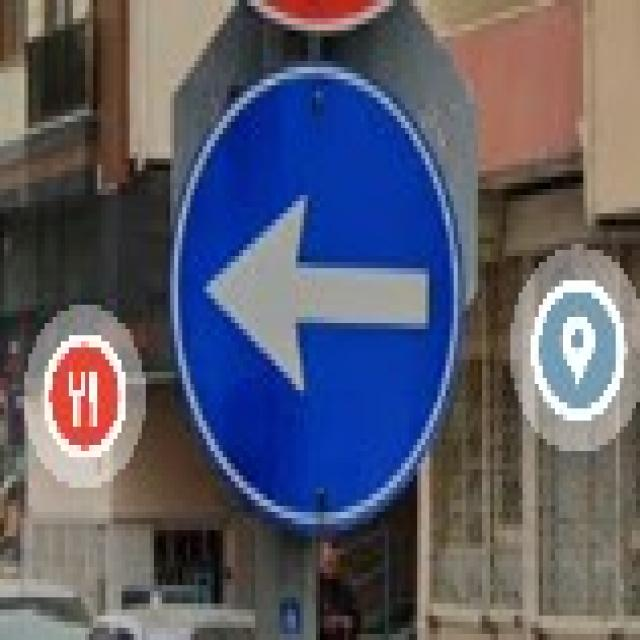Turn Left: (179, 74, 463, 531)
